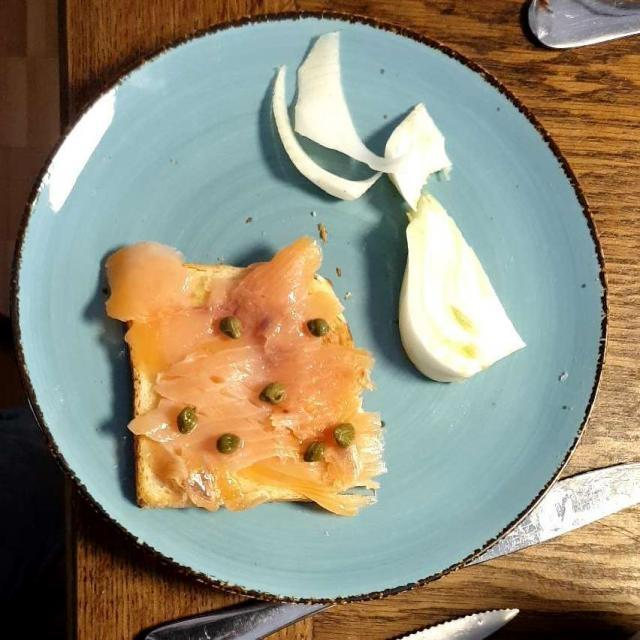bread: (122, 258, 375, 506)
cake: (266, 36, 490, 368)
salmon: (119, 234, 388, 504)
